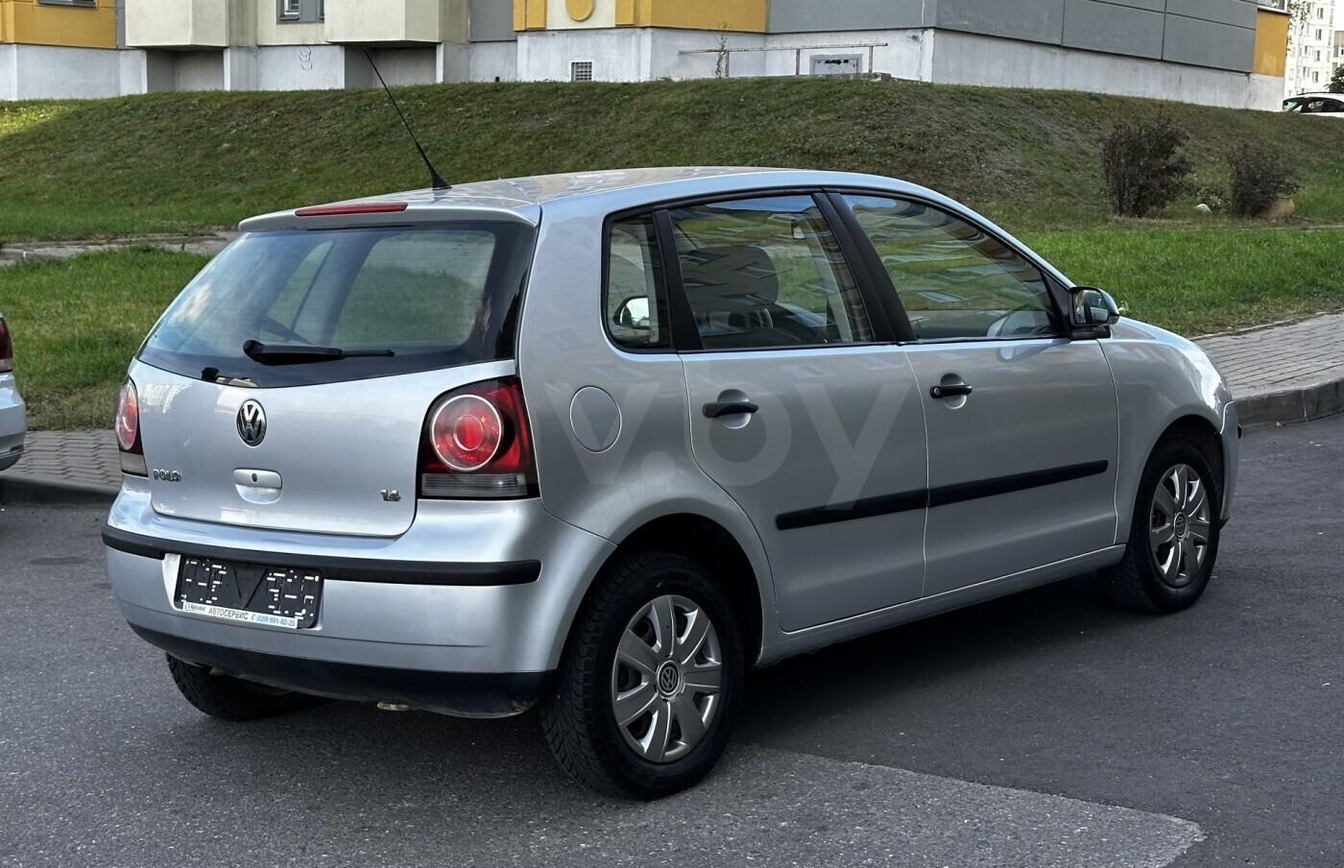Polo_2005-2009: (75, 157, 1252, 812)
